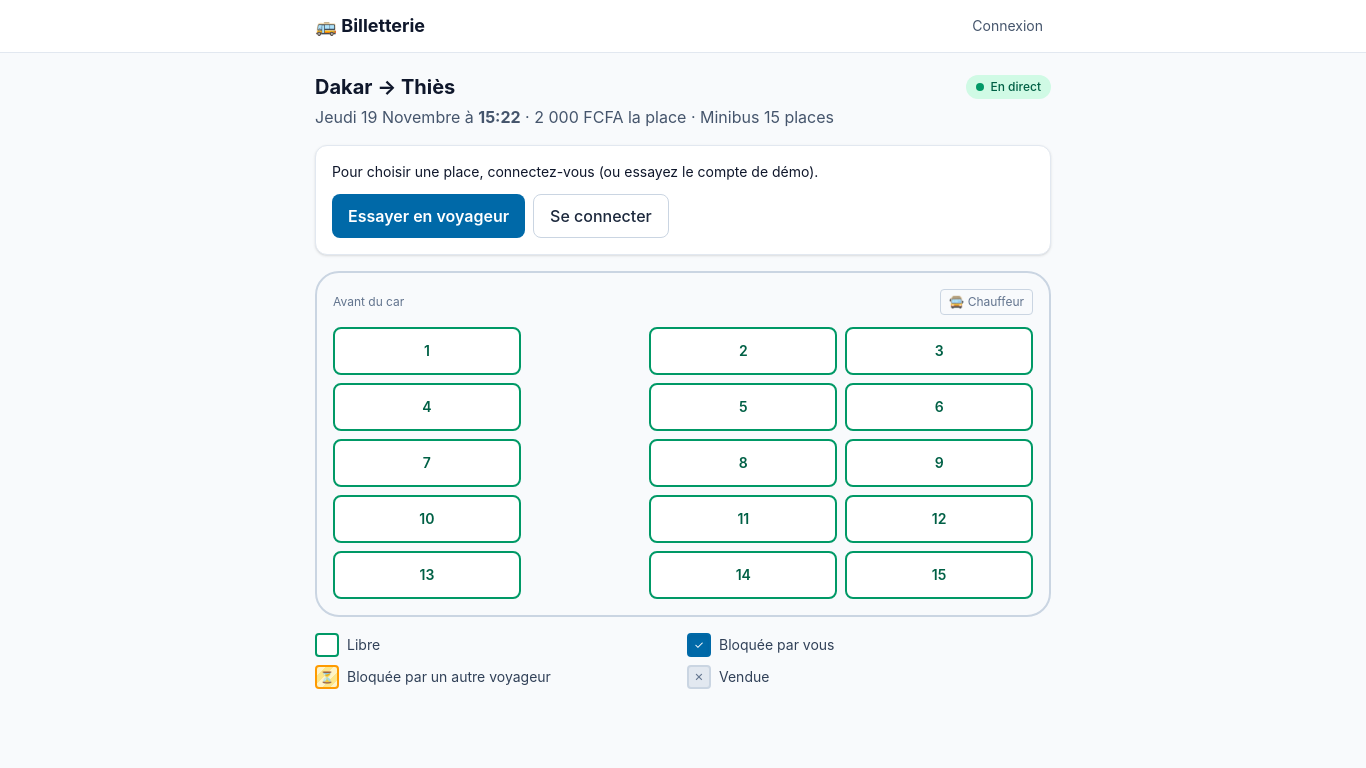
Scenario: page du plan du car › visiteur non connecté : un clic invite à se connecter, sans appeler l’API
Click the button "1": (427, 351) [333, 327, 521, 375]
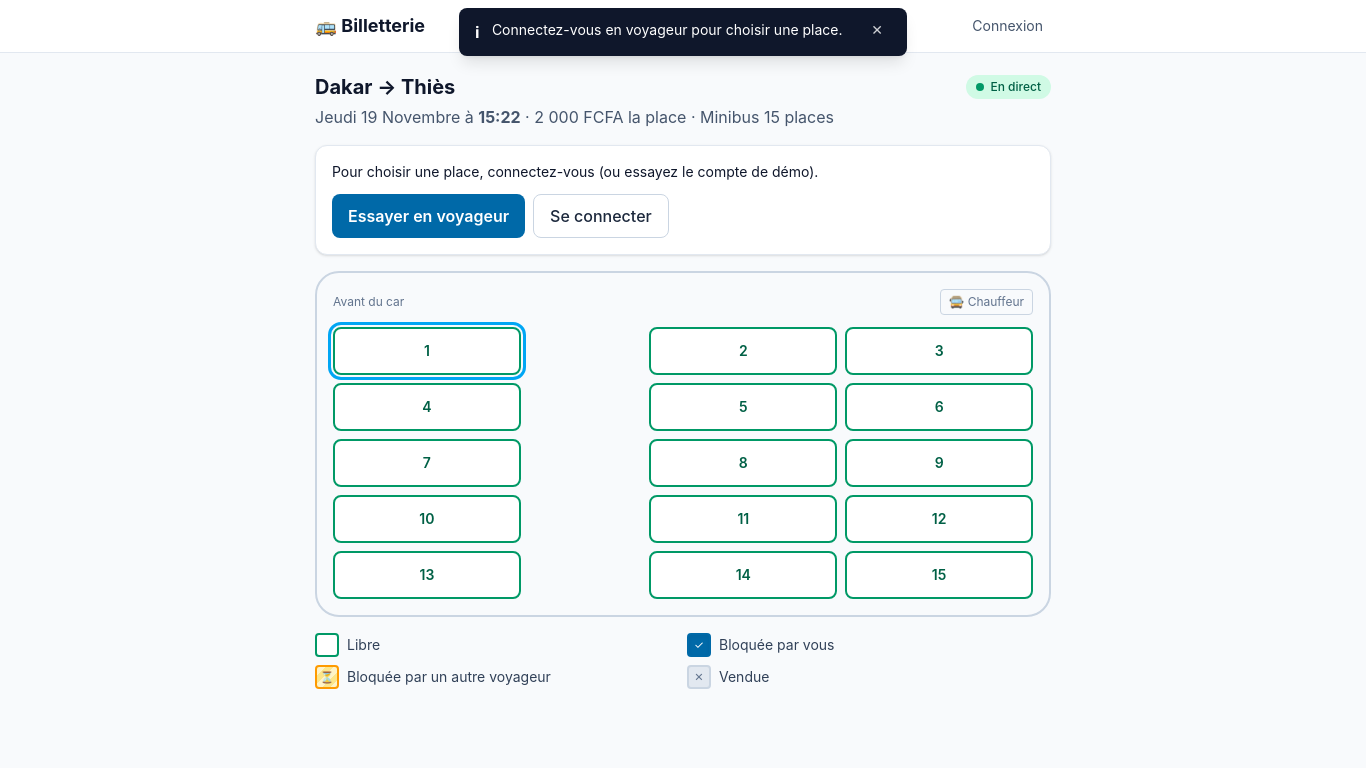
Expected: the button "Essayer en voyageur" is shown, [332, 194, 525, 238]
Result: the text "Connectez-vous en voyageur pour choisir une place." is shown at [492, 20, 851, 40]
